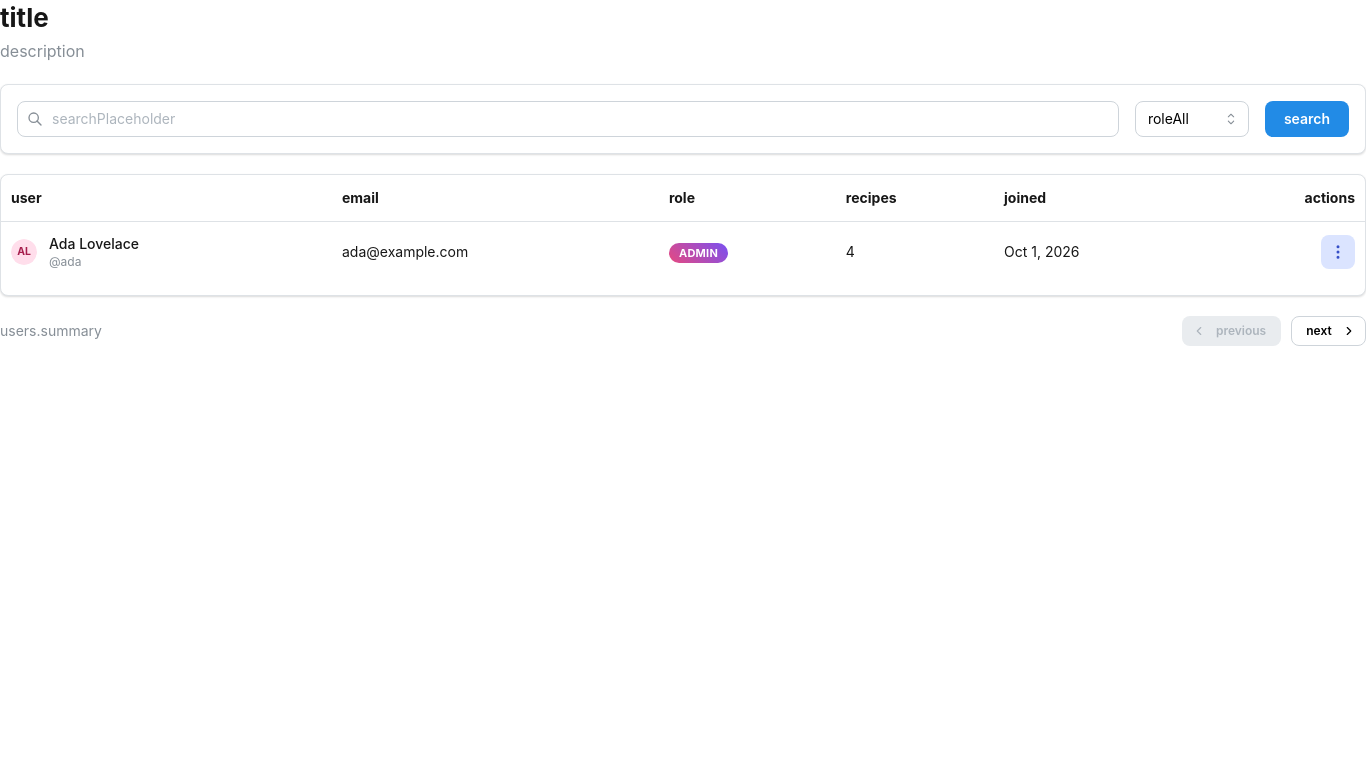
UsersView › opens the details modal with every user field when a row is clicked
Click the row with test id "admin-user-row-u1": (683, 252) [1, 221, 1365, 283]
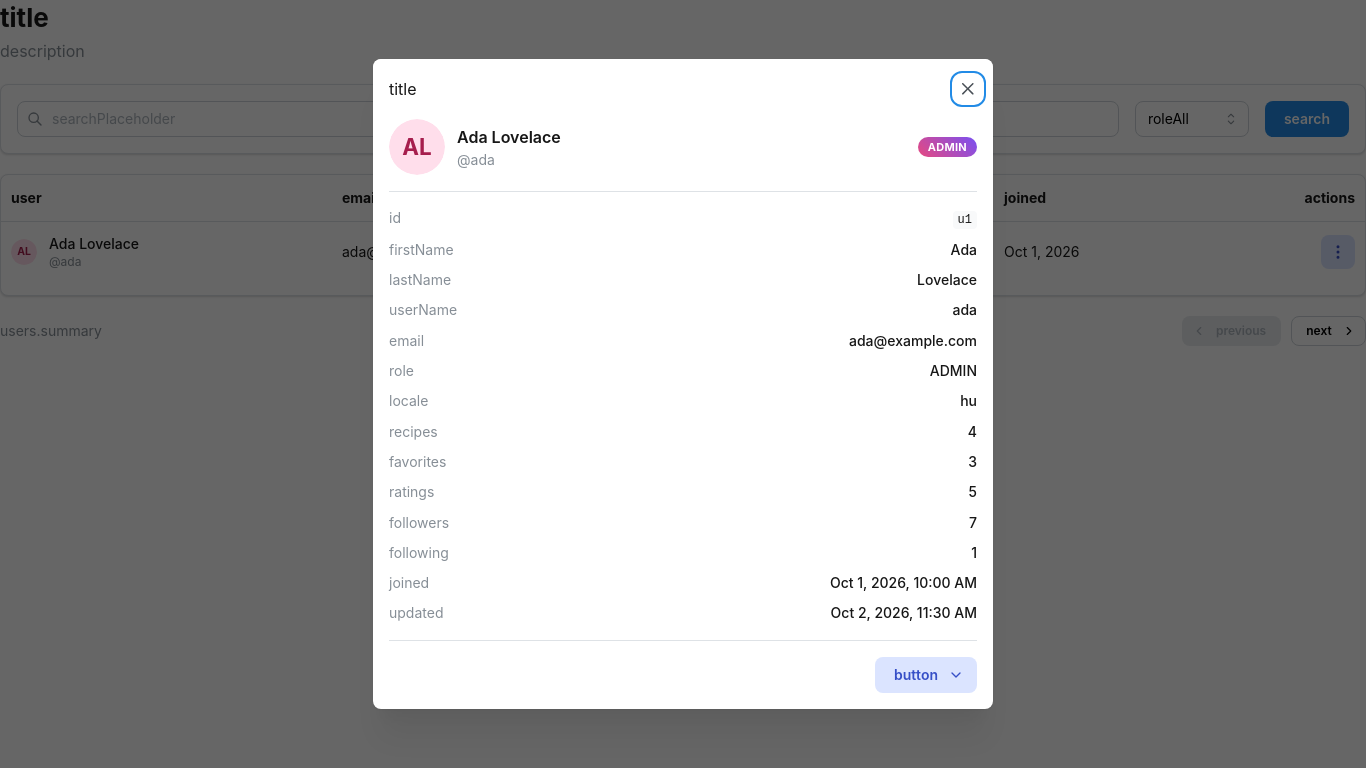
Expected: the element with test id "admin-user-details-content" is shown, [389, 119, 977, 693]
Expected: the element with test id "admin-user-details-field-locale" shows "hu", [960, 392, 977, 409]
Expected: the element with test id "admin-user-details-field-followers" shows "7", [969, 514, 977, 530]
